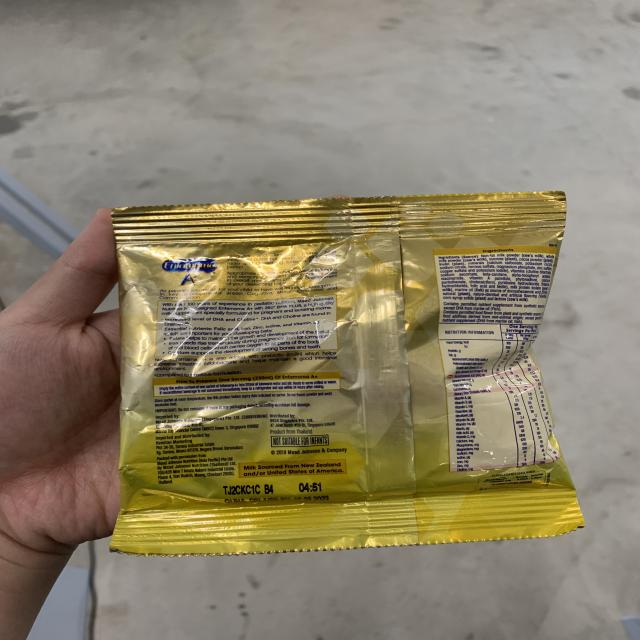object_name: (122, 214, 556, 537)
